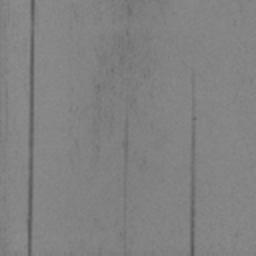Scratches: (26, 0, 36, 256), (189, 71, 197, 256), (122, 119, 129, 183)
